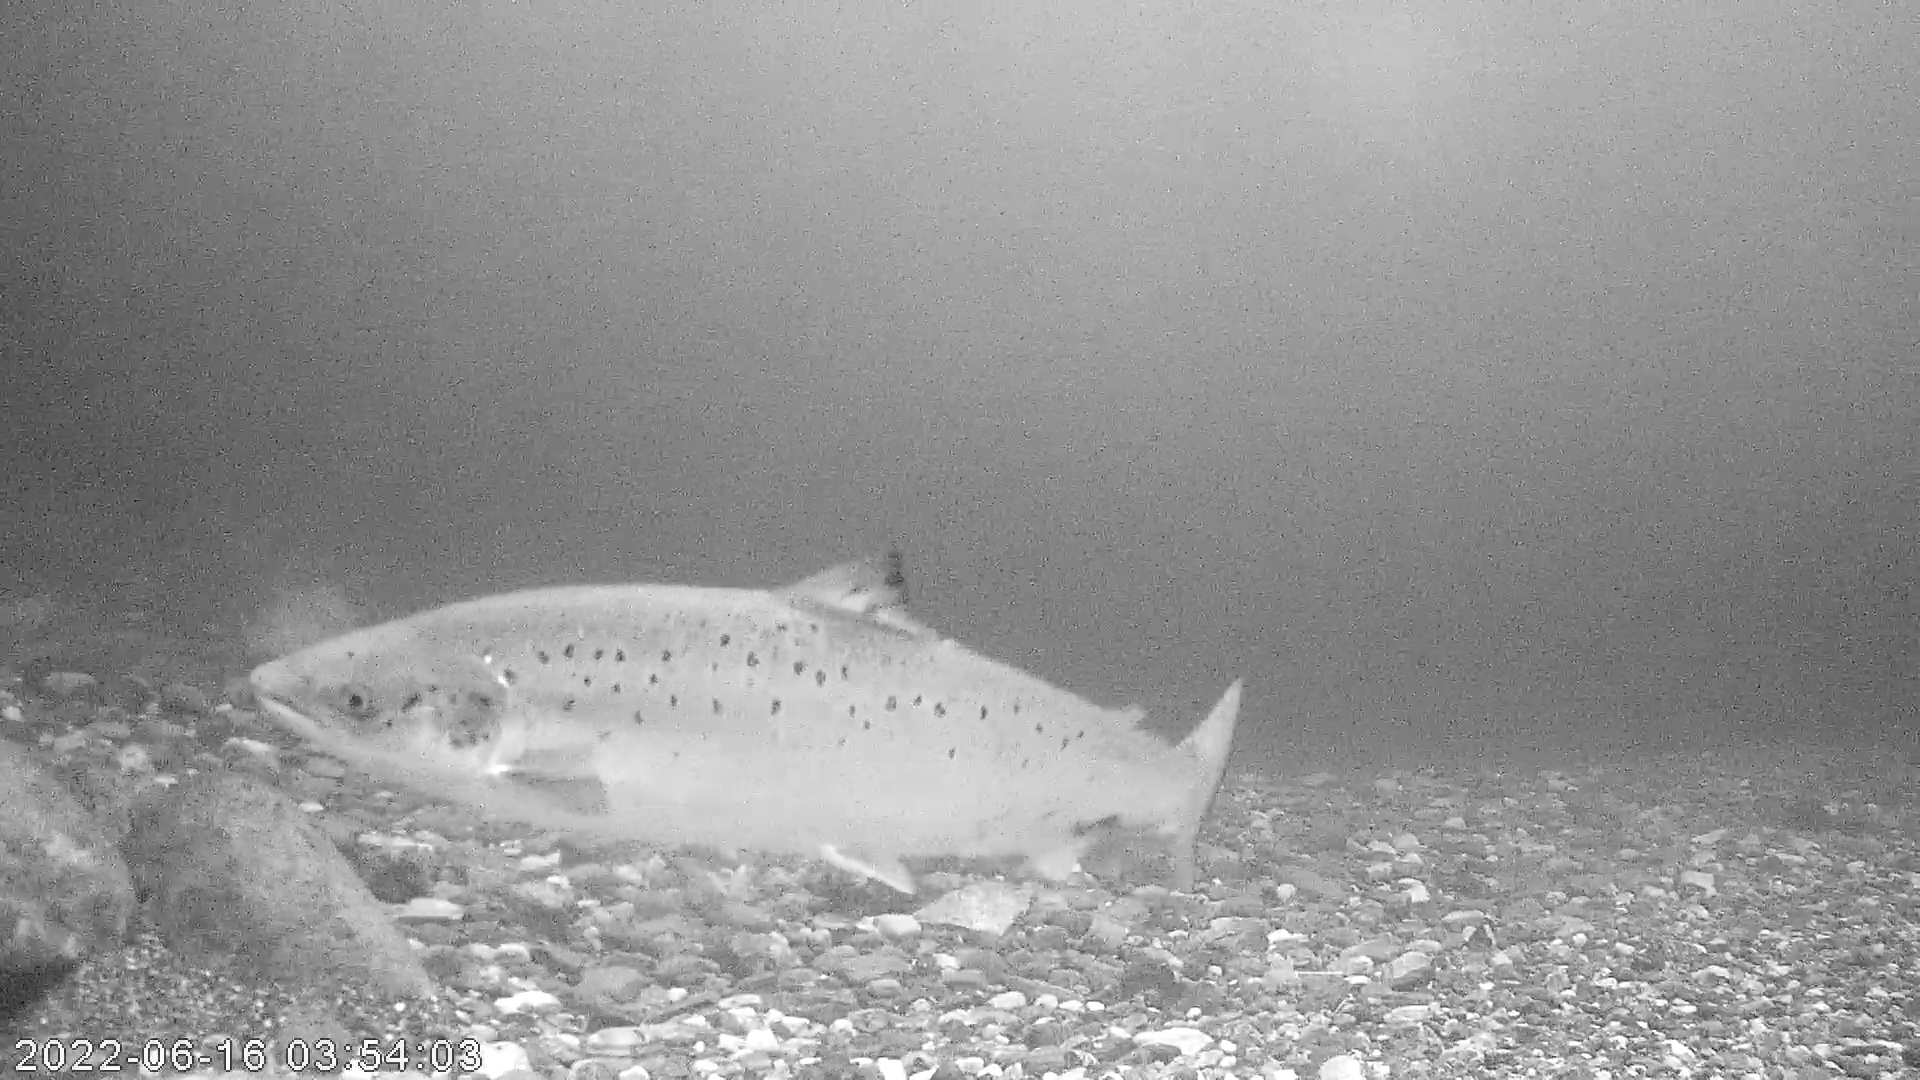salmon: (244, 546, 1246, 897)
